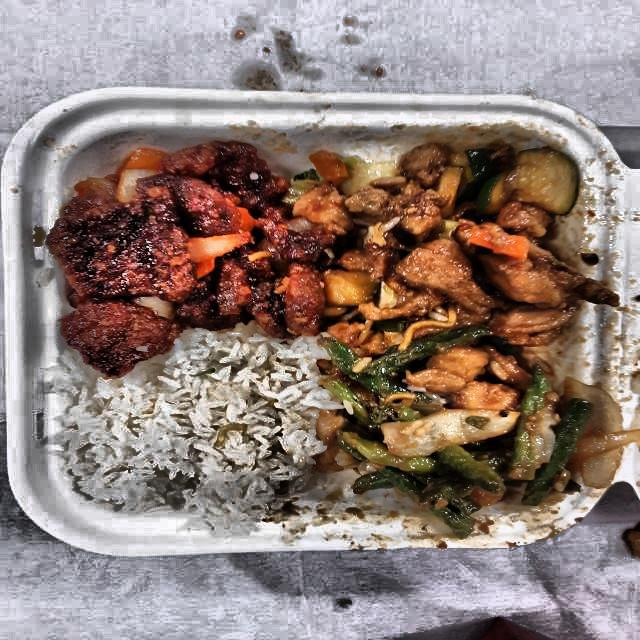Food: (41, 133, 320, 379), (313, 129, 602, 353), (322, 329, 593, 524), (73, 347, 327, 517)
